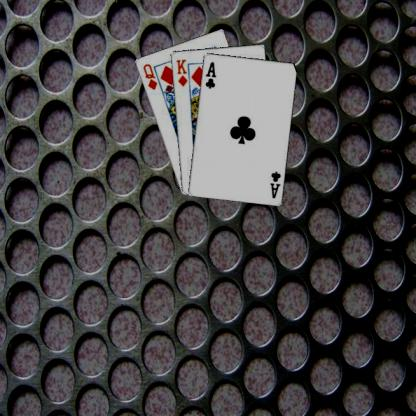AC: (202, 59, 217, 90), (267, 169, 282, 199)
KD: (174, 56, 188, 88)
QD: (140, 61, 158, 91)
